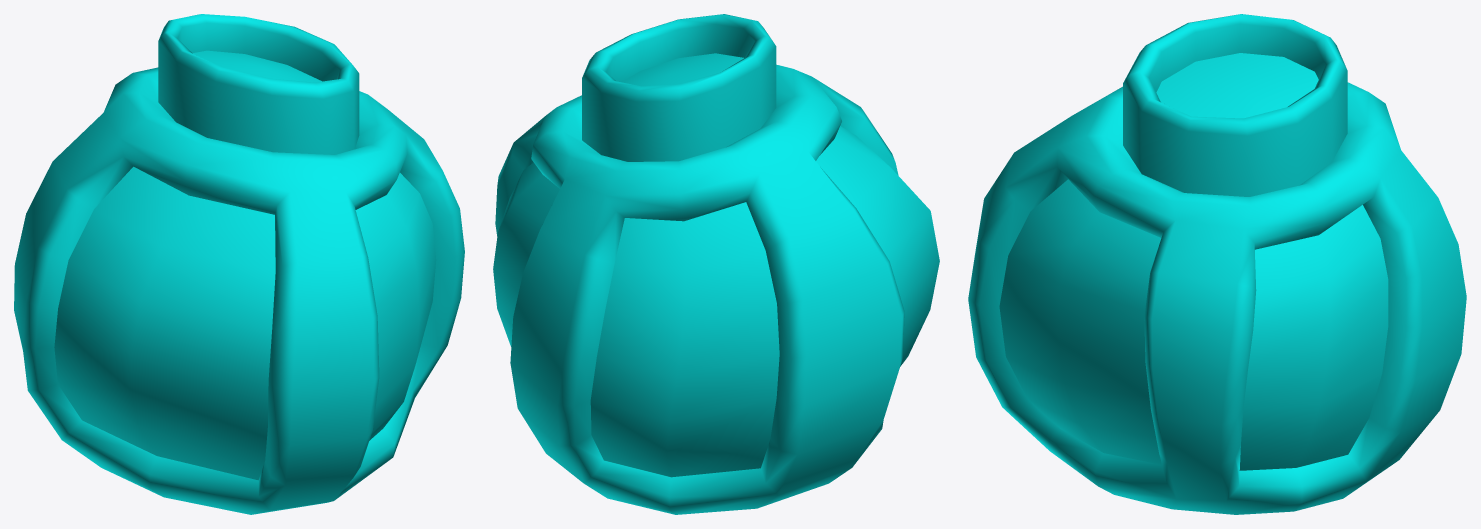
File: Grenade_mesh.fbx
The picture shows the model from 3 angles, left to right: view 1: azimuth 30°, elevation 25°; view 2: azimuth 150°, elevation 25°; view 3: azimuth 270°, elevation 25°; orthographic projection. The views are drawn at different scales.
Parts seen in each view (by area): view 1: Grenade_mesh; view 2: Grenade_mesh; view 3: Grenade_mesh.
Boxes of the visible parts, box(x1,y1,x2,y2) form: Grenade_mesh: box(14, 14, 464, 514); Grenade_mesh: box(493, 14, 939, 514); Grenade_mesh: box(968, 14, 1466, 514).
Size of the model in its own units: 76.93 by 73.35 by 77.93.
